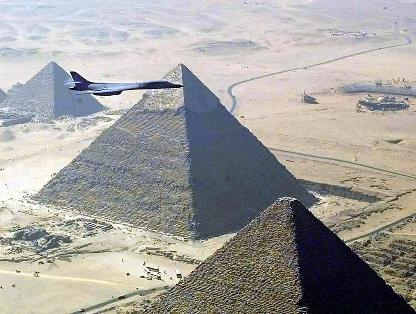AV8B: (61, 70, 183, 95)
